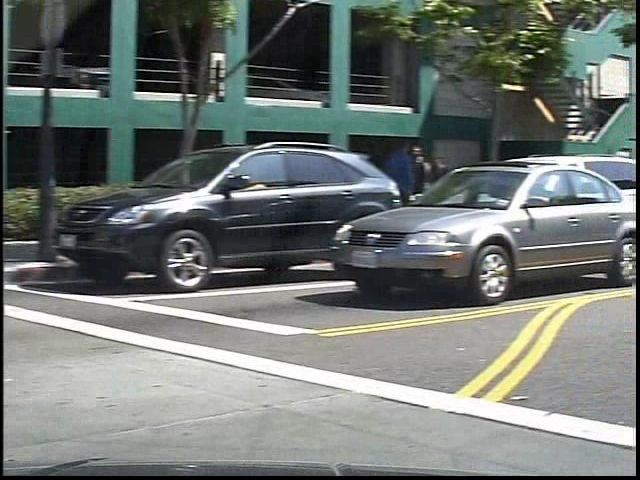person: (399, 133, 442, 240)
